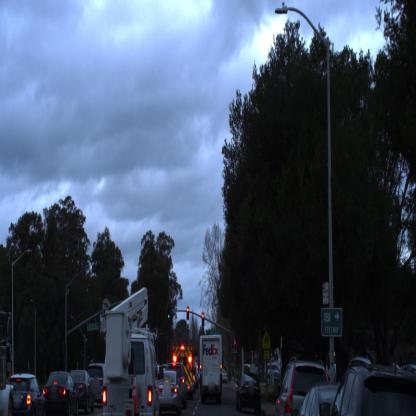car: (322, 358, 416, 416), (274, 360, 331, 416), (40, 372, 78, 416), (8, 374, 43, 416), (297, 382, 340, 416), (157, 366, 186, 416), (69, 372, 96, 414), (237, 374, 261, 413), (169, 364, 194, 401), (88, 366, 106, 409)
sign: (262, 325, 271, 364), (86, 318, 99, 334)
truck: (104, 288, 160, 415), (198, 334, 223, 404)
